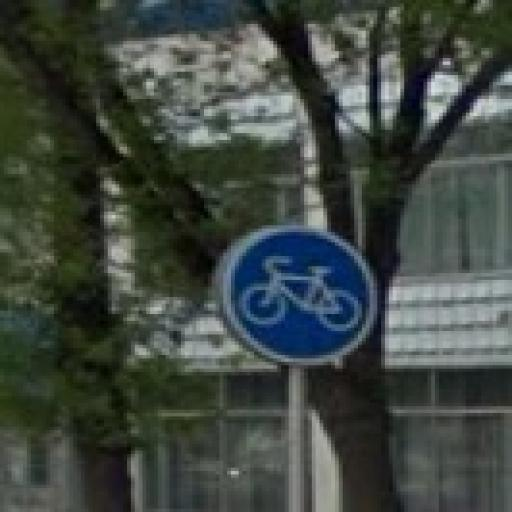traffic_sign: (221, 223, 382, 370)
